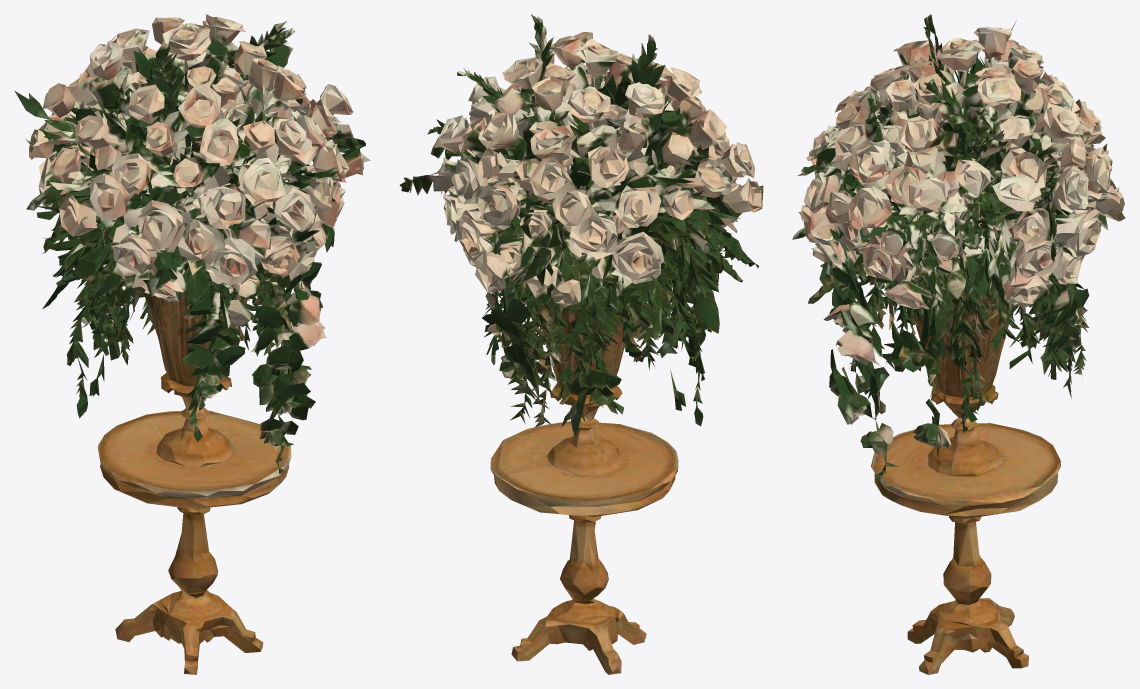
File: vestFloral.glb
3 renders of one model, left to right at view 1: azimuth 30°, elevation 25°; view 2: azimuth 150°, elevation 25°; view 3: azimuth 270°, elevation 25°, orthographic. The views are drawn at different scales.
Size of the model in its own units: 0.9817 by 1.9 by 0.9279.
Materials: 1 (1 with a texture image).
